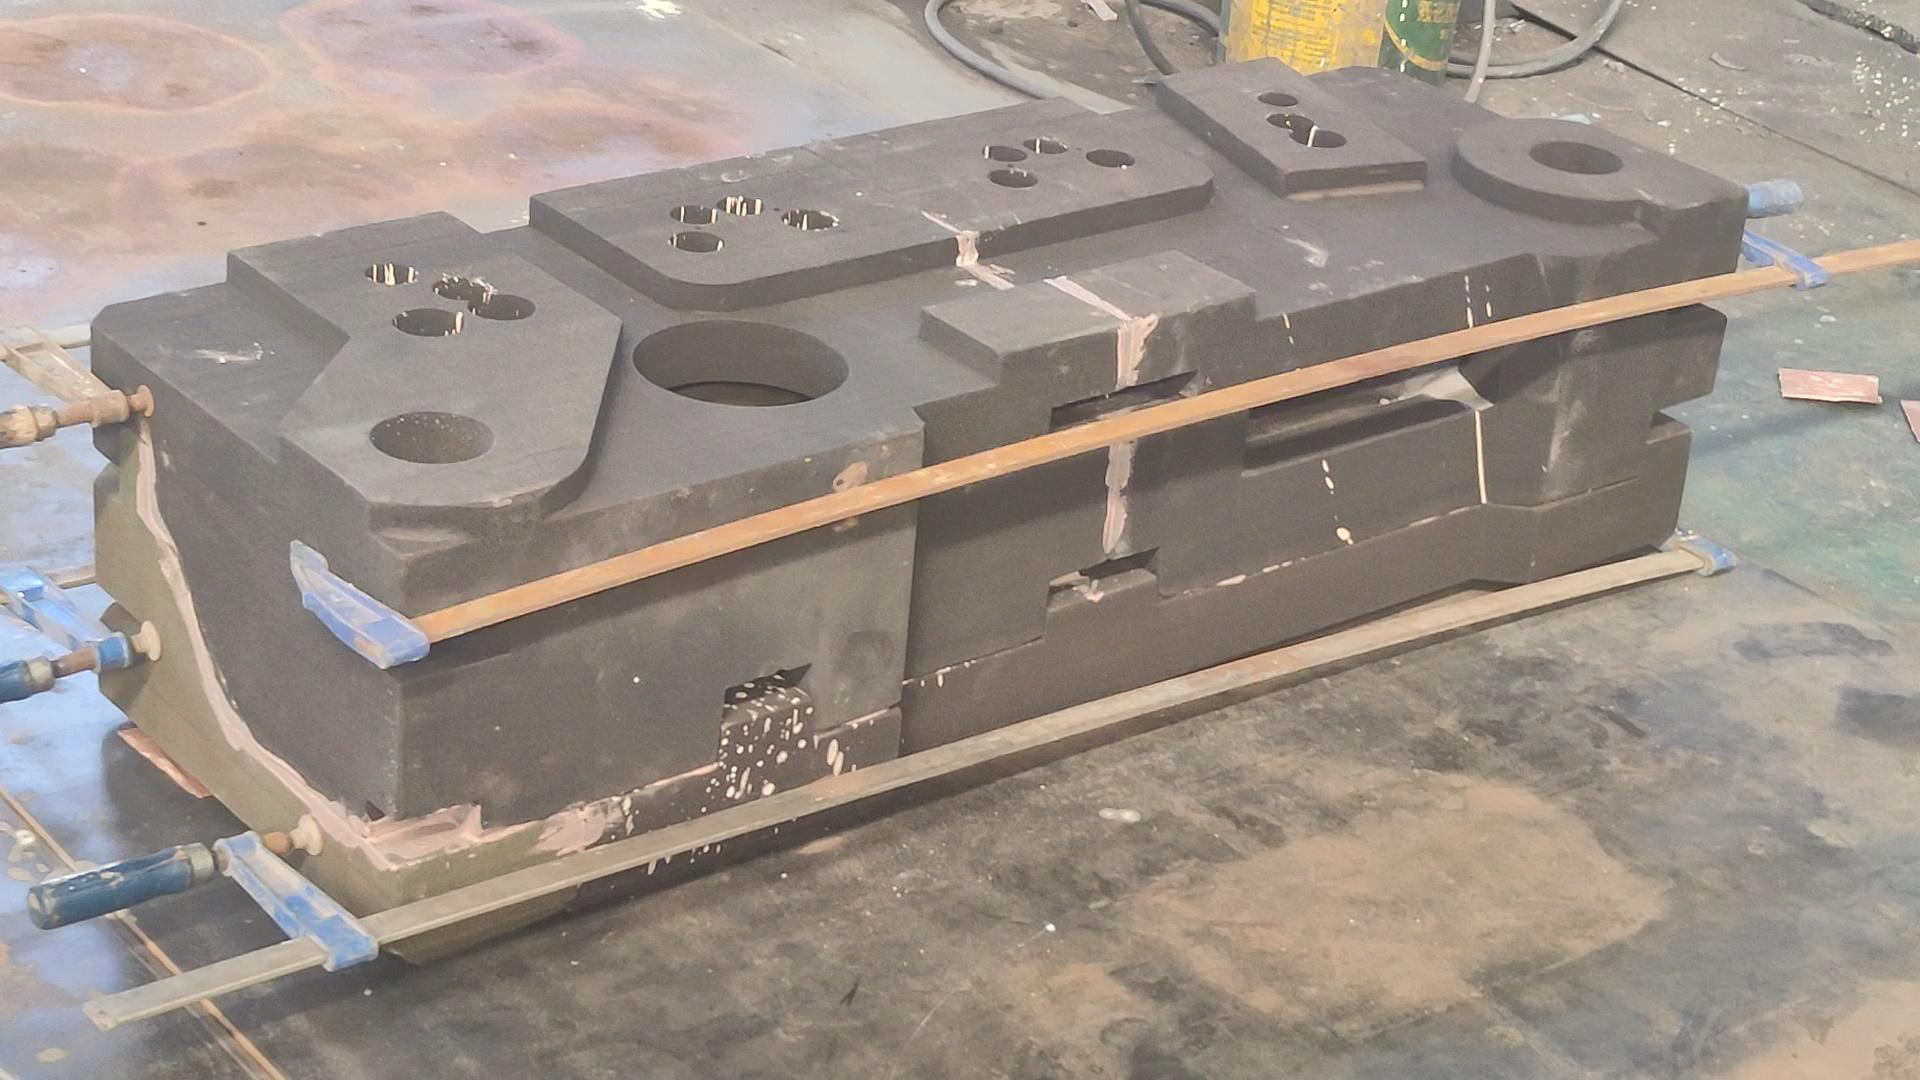pouring hole: (367, 411, 495, 465), (1531, 138, 1621, 173)
